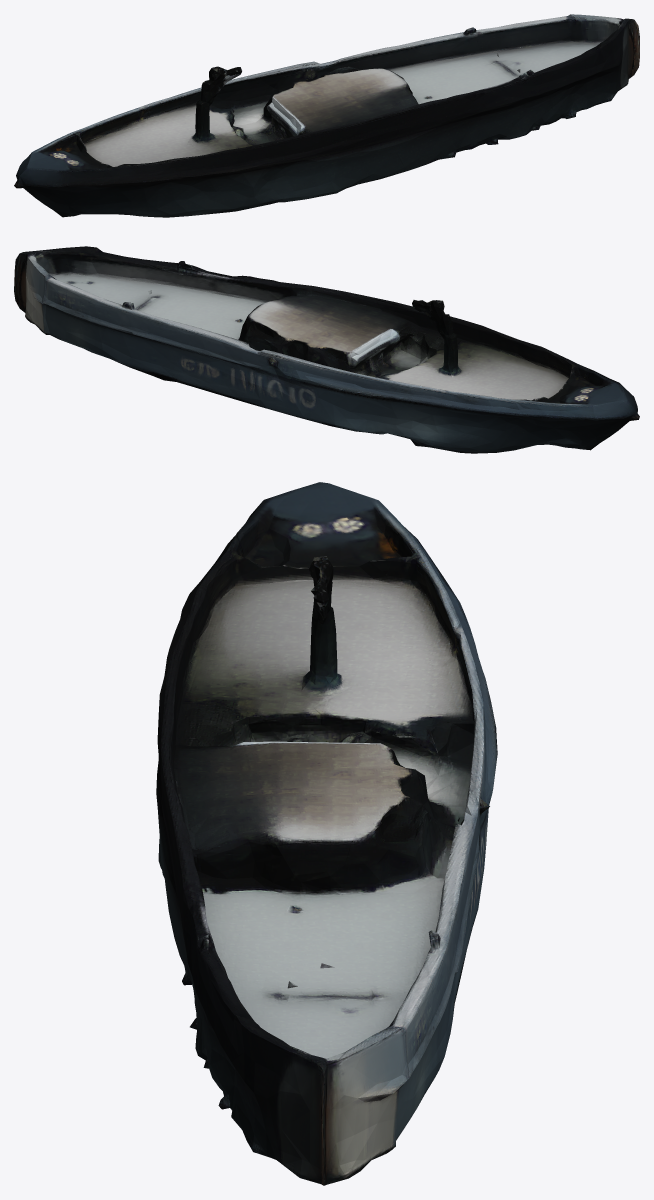
The model's file is düşman_ida72.glb.
3 views of the same model, one above another, from view 1: azimuth 30°, elevation 25°; view 2: azimuth 150°, elevation 25°; view 3: azimuth 270°, elevation 25° (orthographic). The views are drawn at different scales.
Visible parts, largest first — view 1: world; view 2: world; view 3: world.
Boxes of the visible parts, box(x1,y1,x2,y2) form: world: box(14, 14, 639, 217); world: box(14, 246, 639, 453); world: box(156, 482, 497, 1185).
Bounding box in the file's own units: 0.9982 × 0.1803 × 0.2363.
Materials: 1 (1 with a texture image).
